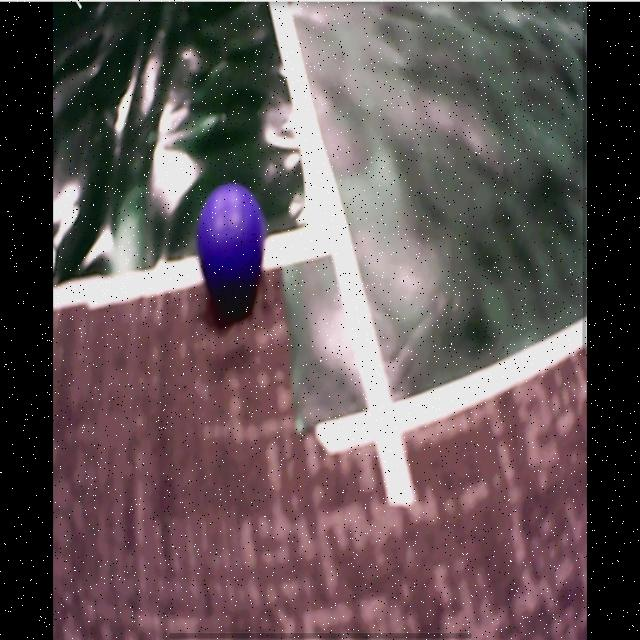ball: (195, 181, 263, 291)
